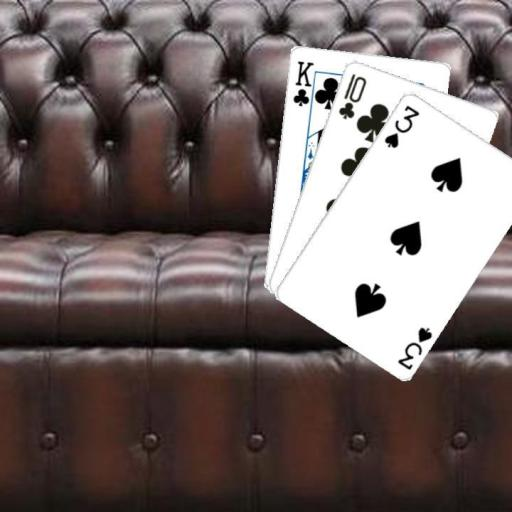10C: (335, 70, 368, 121)
3S: (380, 102, 421, 149), (394, 323, 434, 371)
KC: (290, 58, 319, 113)
